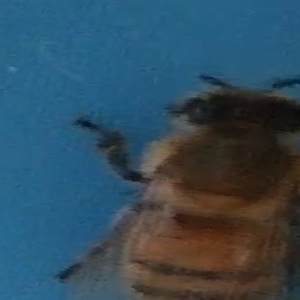bee: (72, 70, 300, 300)
